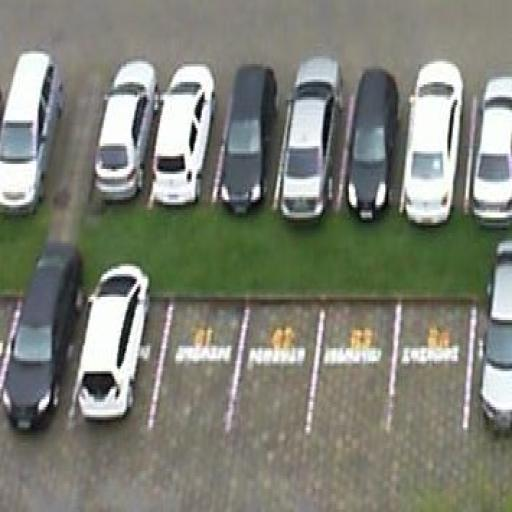car: (0, 240, 89, 437), (74, 258, 154, 428), (400, 59, 468, 228), (278, 56, 344, 226), (0, 48, 66, 217), (147, 61, 219, 210), (215, 59, 280, 220), (91, 59, 161, 207), (344, 64, 402, 225), (479, 236, 512, 440), (471, 71, 512, 233)
